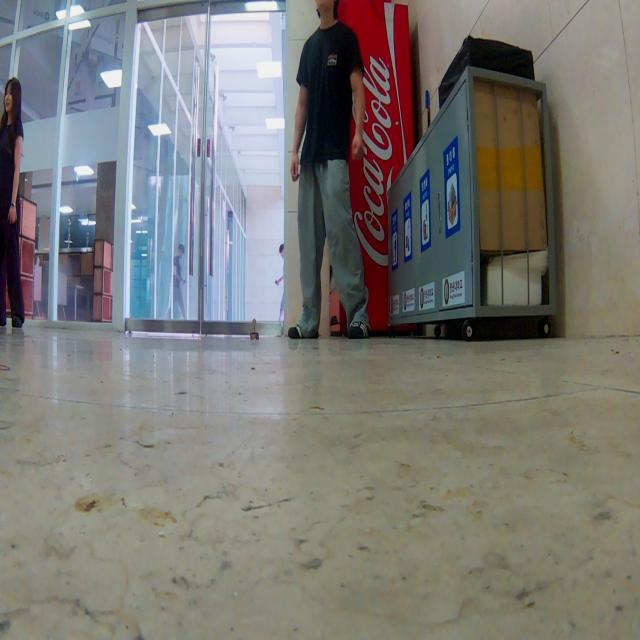target: (250, 318, 260, 341)
